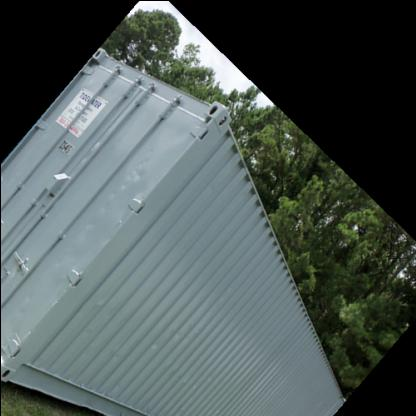Damage: (78, 282, 139, 416), (146, 106, 205, 236), (187, 359, 272, 389), (328, 271, 350, 319), (208, 283, 223, 304)
